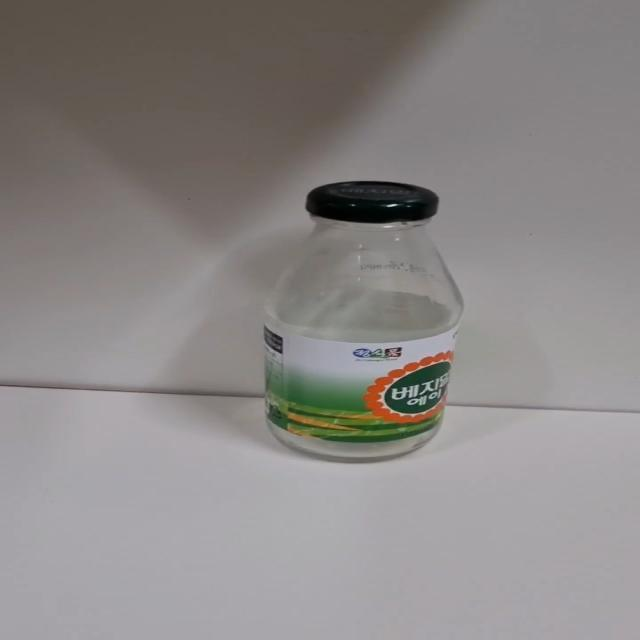Glass: (261, 180, 465, 466)
